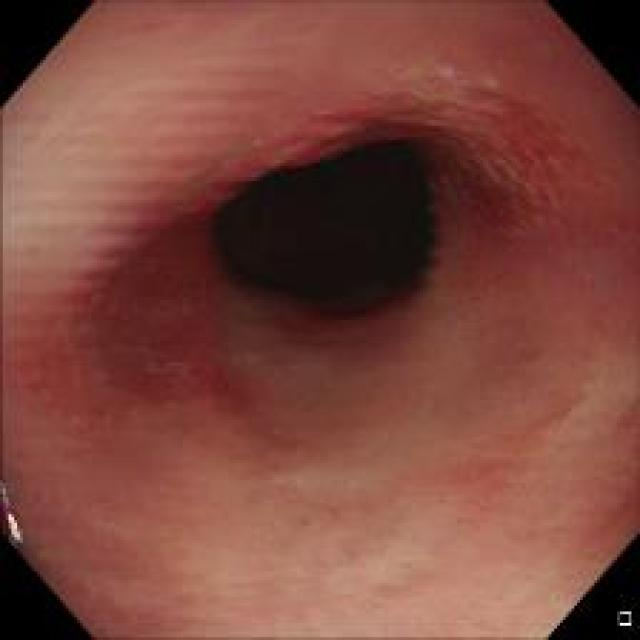color misalignment: (232, 130, 352, 179), (1, 478, 28, 546)
contrast: (212, 120, 456, 316)
